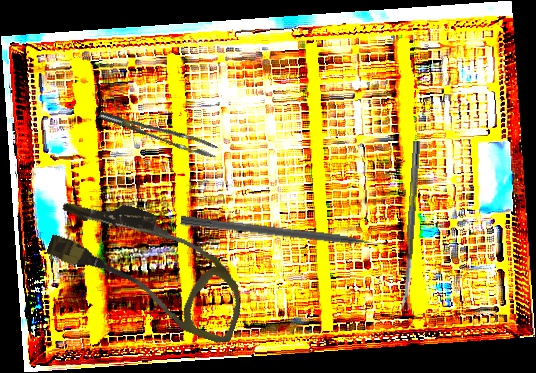Cannula: (37, 184, 262, 347)
Pusher: (180, 215, 394, 253)
Surgical Spoon: (400, 140, 421, 310)
Tissue Forceps: (98, 95, 220, 170)
